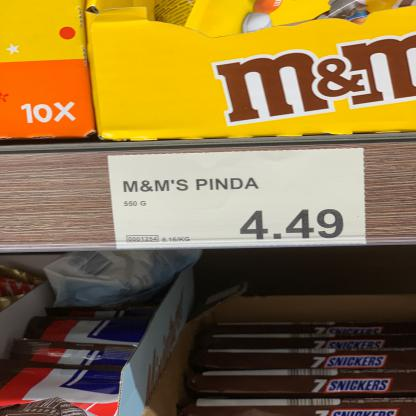prtg: (108, 148, 369, 251)
